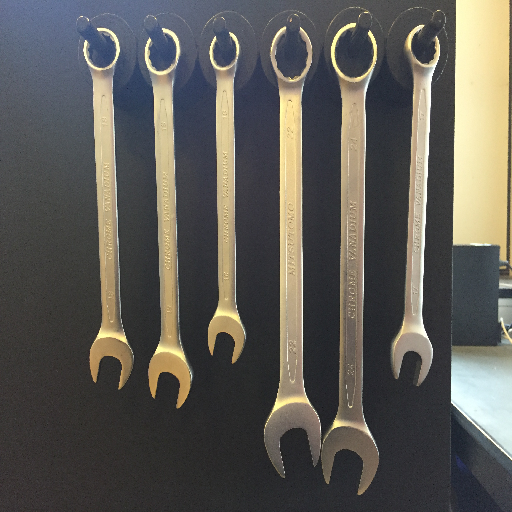bottom: (260, 402, 321, 480), (321, 420, 381, 496), (144, 350, 193, 411), (88, 335, 135, 391), (390, 329, 434, 387), (205, 309, 248, 365)
top: (328, 19, 381, 82), (267, 24, 316, 82), (399, 20, 444, 74), (142, 27, 185, 78), (79, 26, 123, 72), (208, 31, 243, 72)
